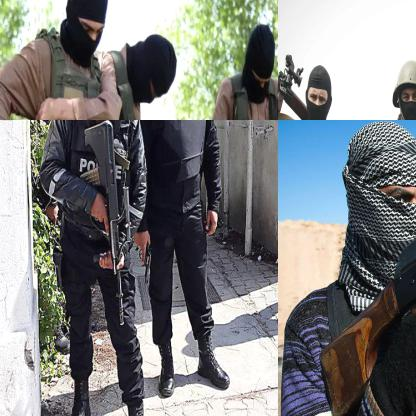rifle: (320, 120, 415, 415), (82, 120, 134, 328), (278, 34, 310, 119)
